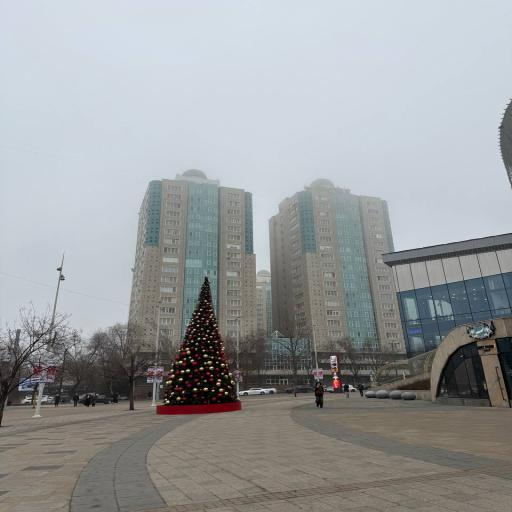shelf: (0, 395, 511, 511)
